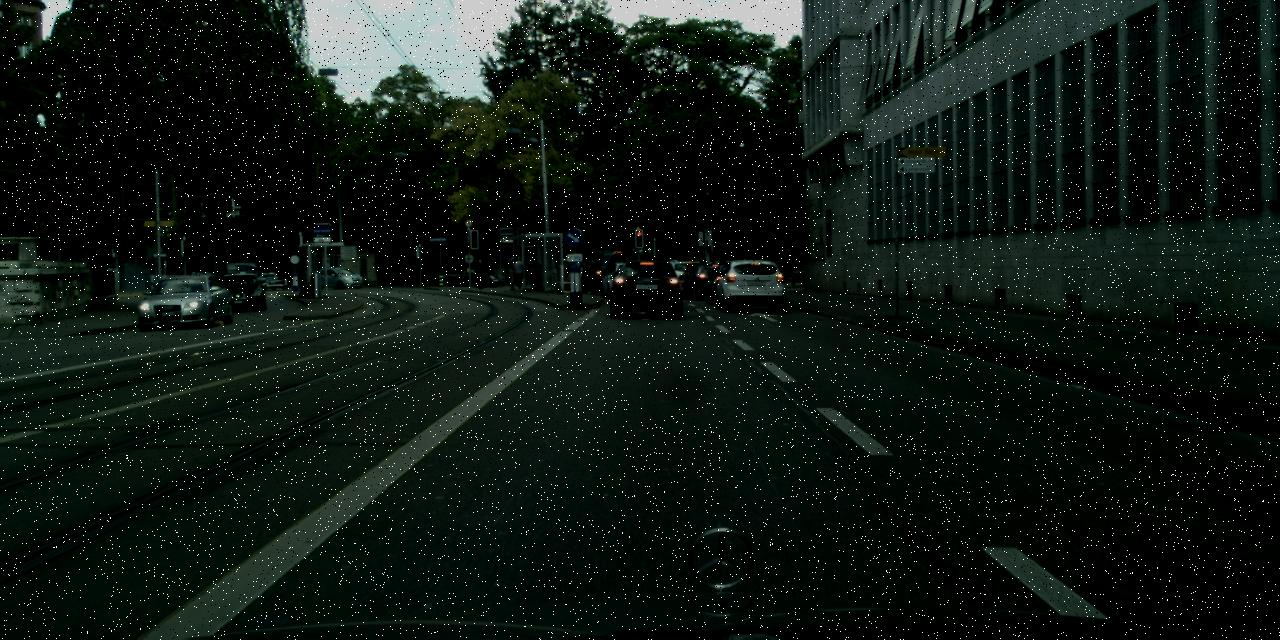ped: (505, 250, 521, 290), (513, 256, 525, 288), (473, 259, 485, 289)
